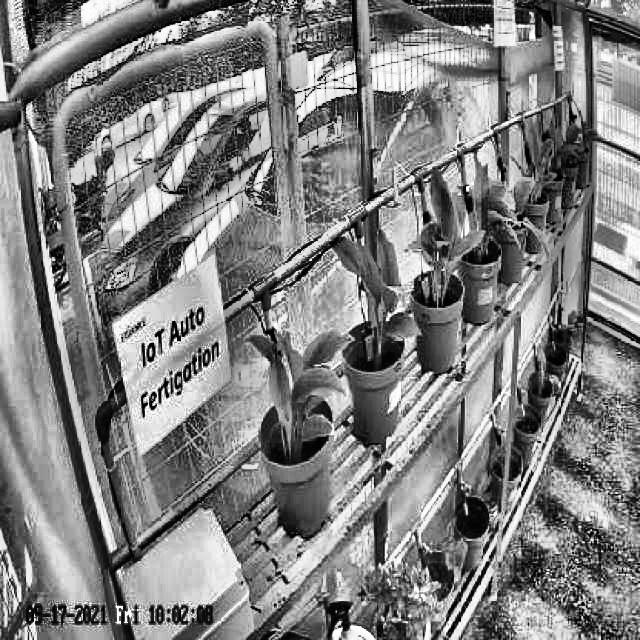plants: (244, 331, 356, 446), (332, 225, 422, 341), (406, 167, 479, 281), (467, 156, 518, 252), (526, 128, 557, 206)
